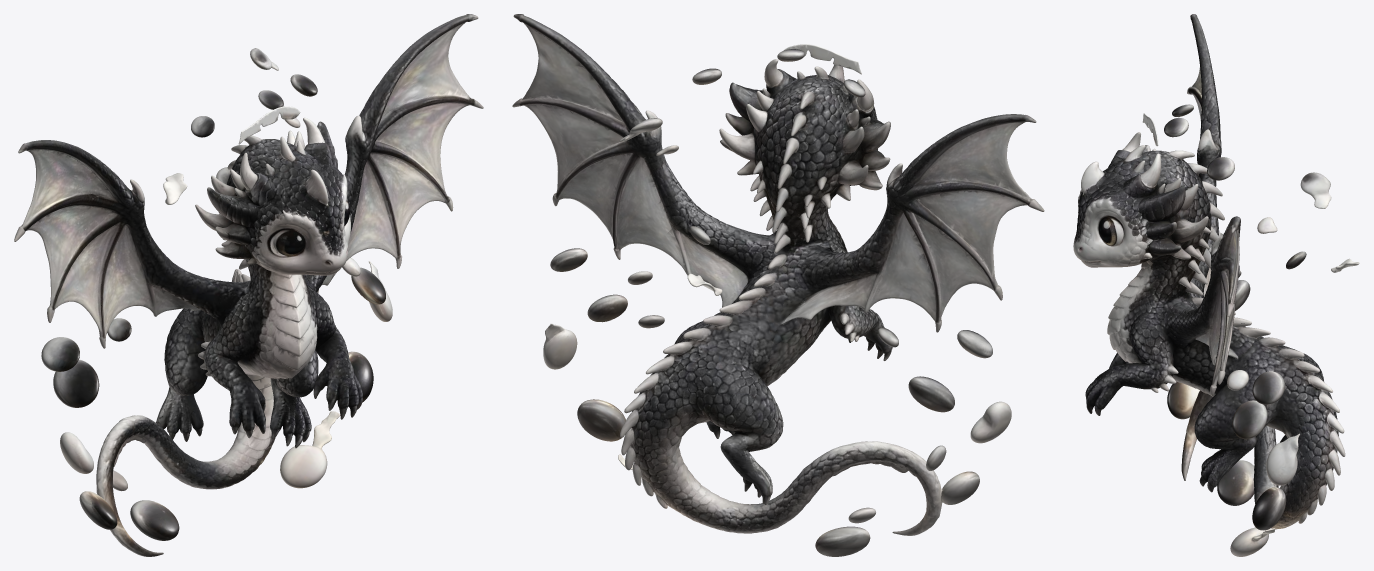
Rendered from stage_iii.glb.
3 renders of one model, left to right at view 1: azimuth 30°, elevation 25°; view 2: azimuth 150°, elevation 25°; view 3: azimuth 270°, elevation 25°, orthographic. The views are drawn at different scales.
Parts seen in each view (by area): view 1: tripo_node_26f92586-dc26-4ee2-8c35-4acf0cb1870e; view 2: tripo_node_26f92586-dc26-4ee2-8c35-4acf0cb1870e; view 3: tripo_node_26f92586-dc26-4ee2-8c35-4acf0cb1870e.
Boxes of the visible parts, x1,y1,x2,y2 form: tripo_node_26f92586-dc26-4ee2-8c35-4acf0cb1870e: [14, 14, 483, 556]; tripo_node_26f92586-dc26-4ee2-8c35-4acf0cb1870e: [512, 14, 1044, 556]; tripo_node_26f92586-dc26-4ee2-8c35-4acf0cb1870e: [1073, 14, 1359, 556].
Bounding box in the file's own units: 1 × 0.8741 × 0.5449.
Materials: 1 (1 with a texture image).
